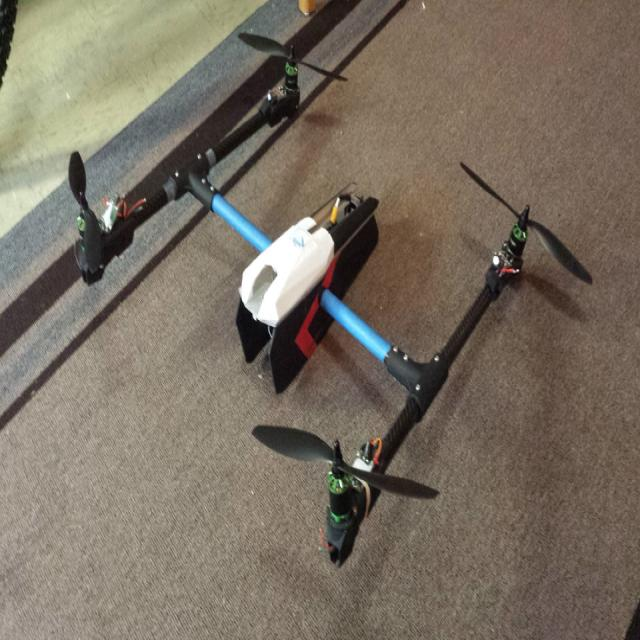drone: (58, 24, 592, 578)
